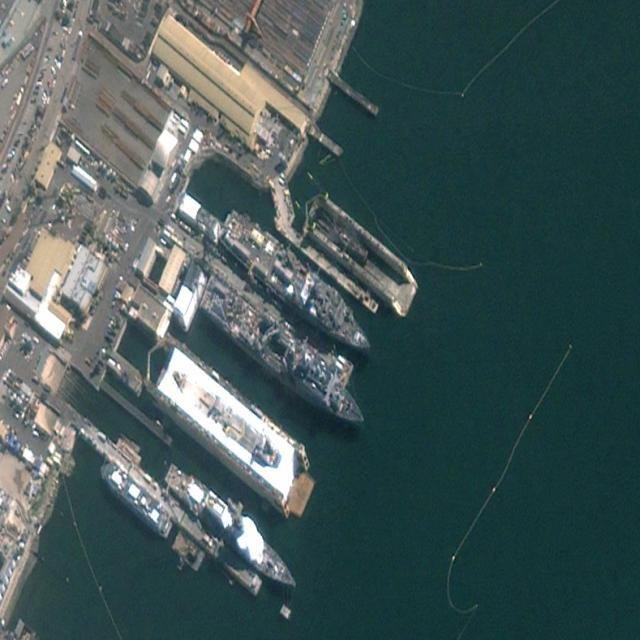Other Ship: (95, 456, 175, 542)
Other Warship: (195, 270, 372, 442), (216, 200, 381, 368), (160, 451, 305, 599)
